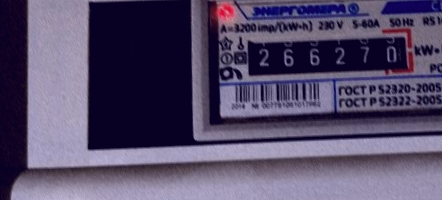0: (383, 41, 398, 62)
2: (257, 44, 270, 66), (334, 43, 347, 64)
6: (282, 44, 294, 66), (308, 44, 321, 64)
7: (360, 42, 370, 62)
screen: (235, 21, 420, 84)
